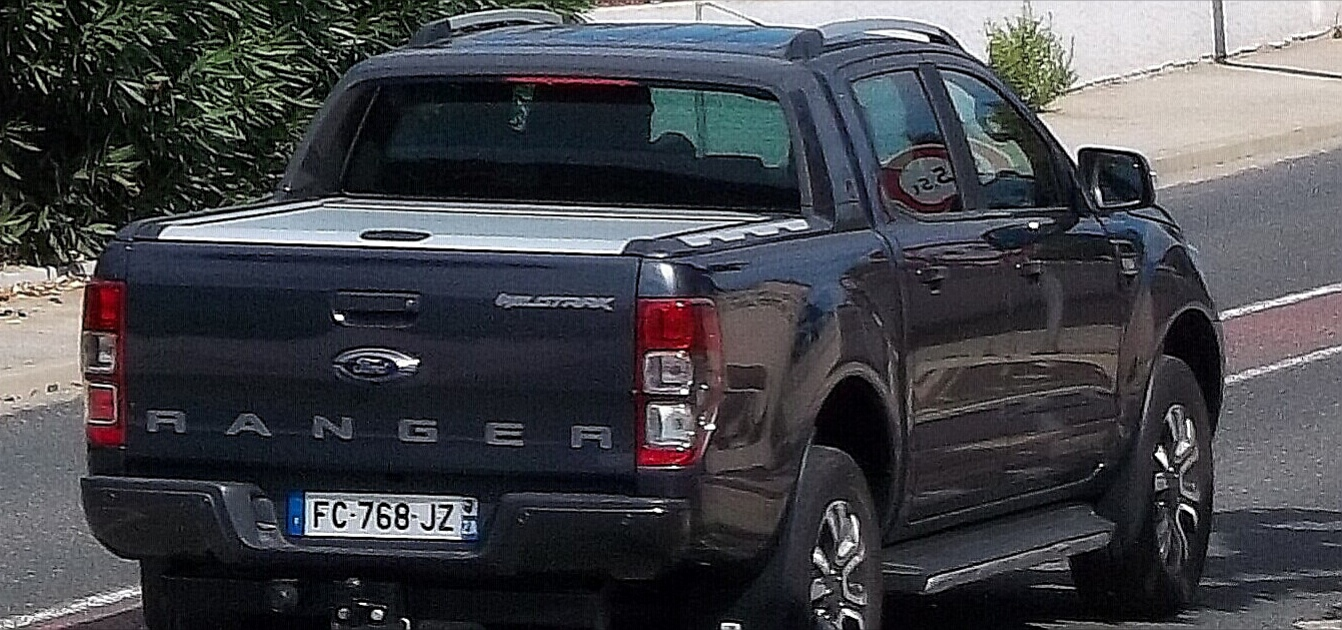licence plate: (281, 484, 485, 544)
